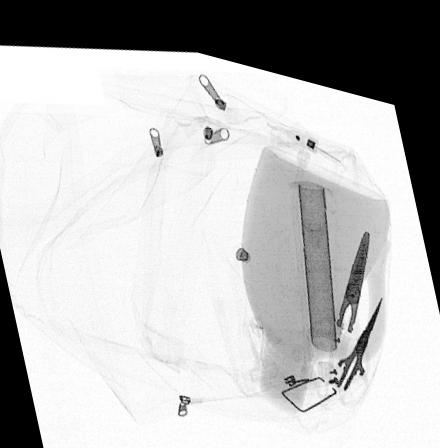Scissors: (310, 209, 372, 368), (315, 274, 382, 390)
